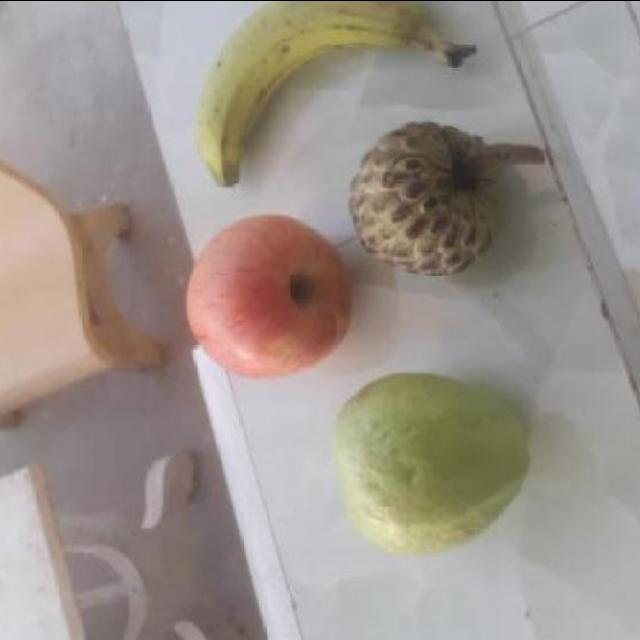apple: (182, 207, 354, 386)
banana: (195, 0, 446, 193)
guava: (338, 378, 528, 558)
sugar apple: (348, 120, 516, 280)
